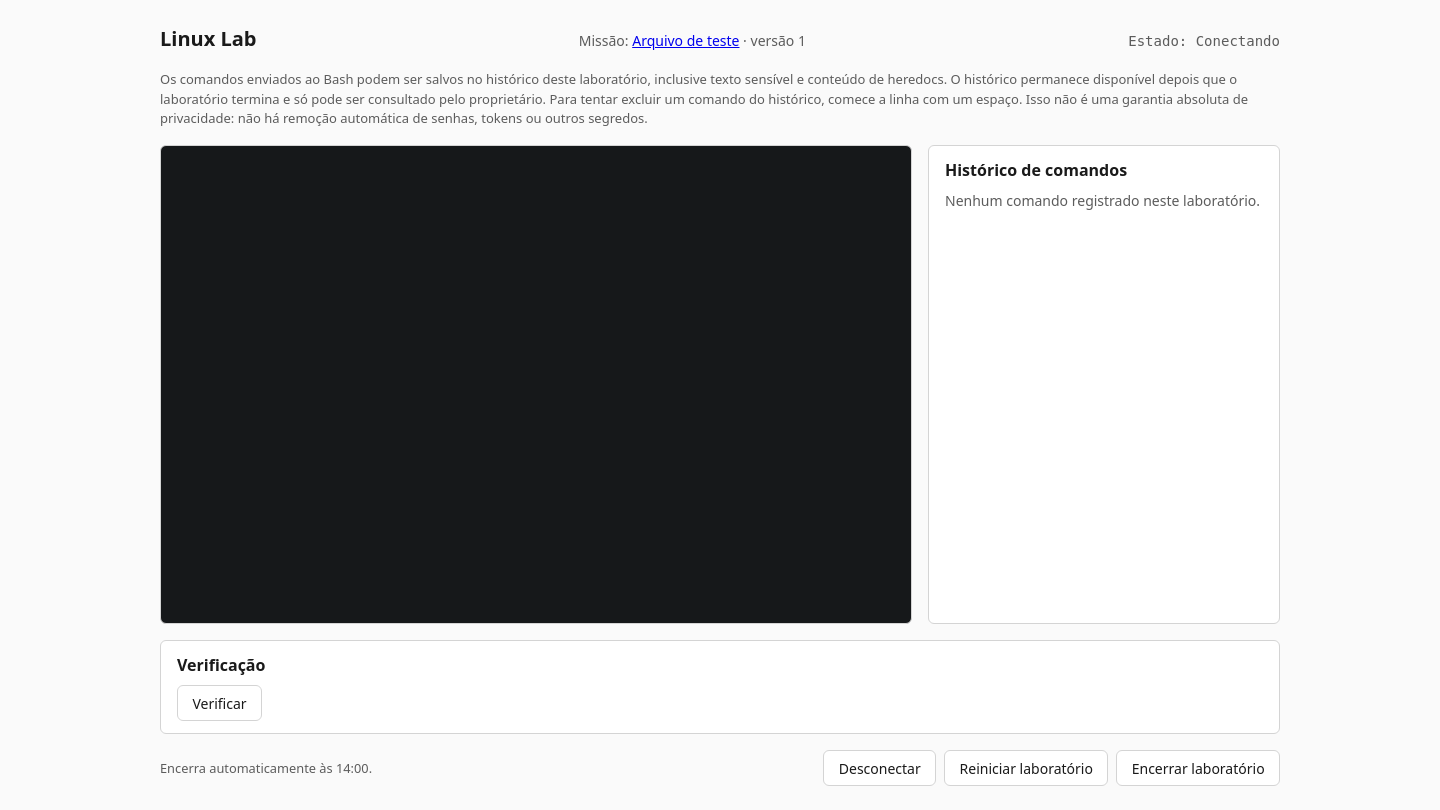
Test case: late responses of operations started by the previous user › does not let Ana's late lab end touch Bia's labs
Click the button "Encerrar laboratório".
click(1198, 768)  # box [1116,750,1280,786]
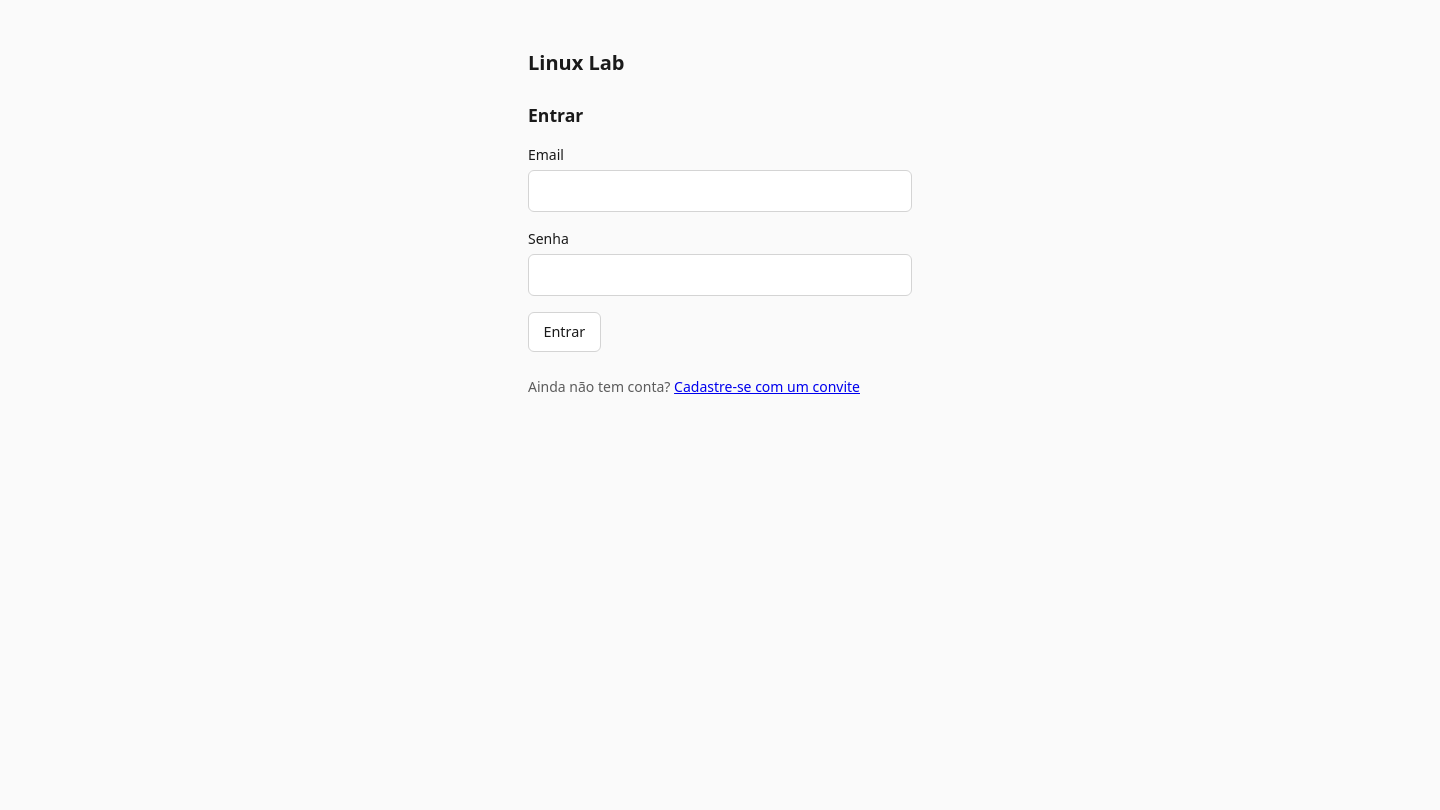
Check: the heading "Entrar" is shown, box [528,103,583,127]
Type "bia@example.com" into the field labelled "Email".
click(720, 191); type("bia@example.com")  # box [528,170,912,212]
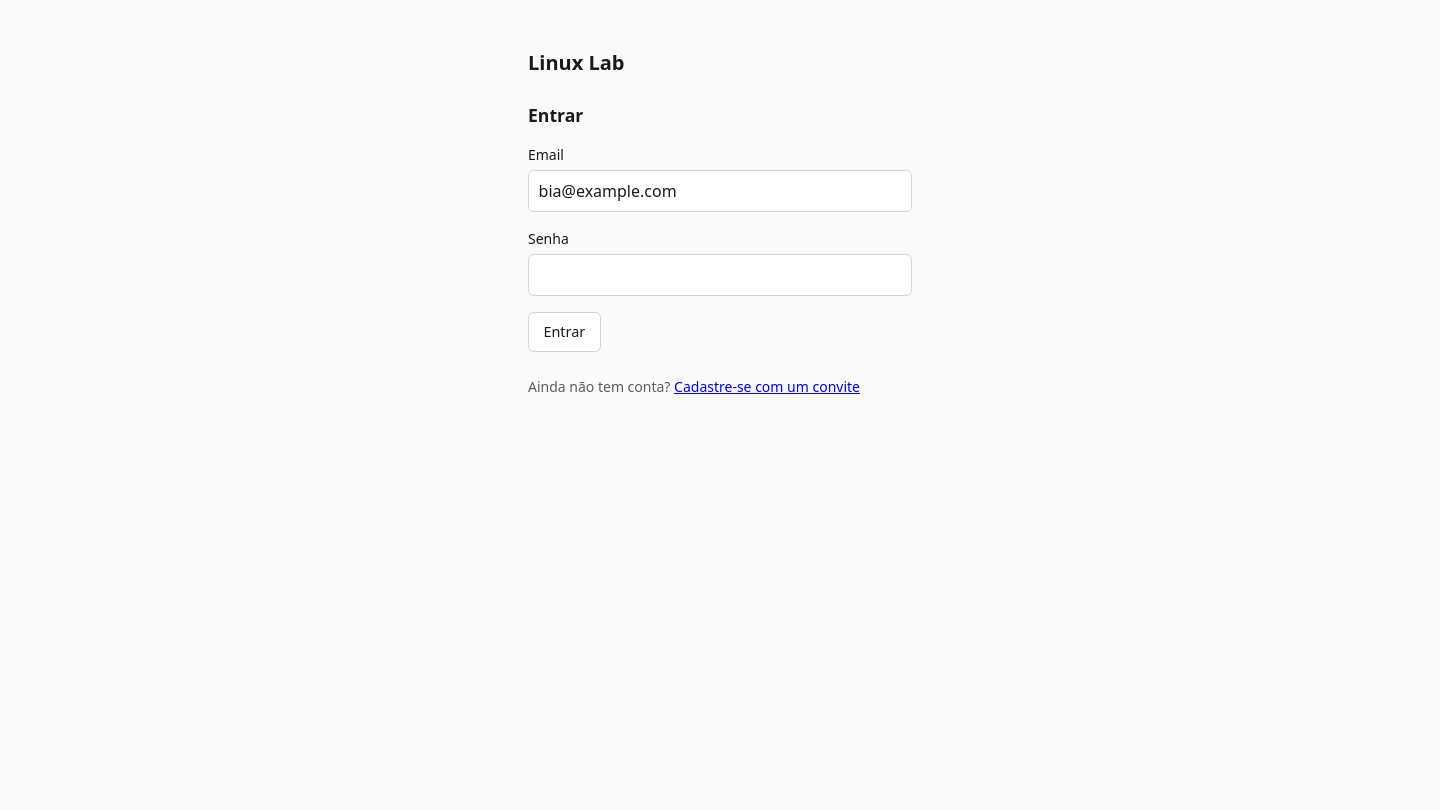
Type "synthetic password 01" into the password field labelled "Senha".
click(720, 275); type("synthetic password 01")  # box [528,254,912,296]
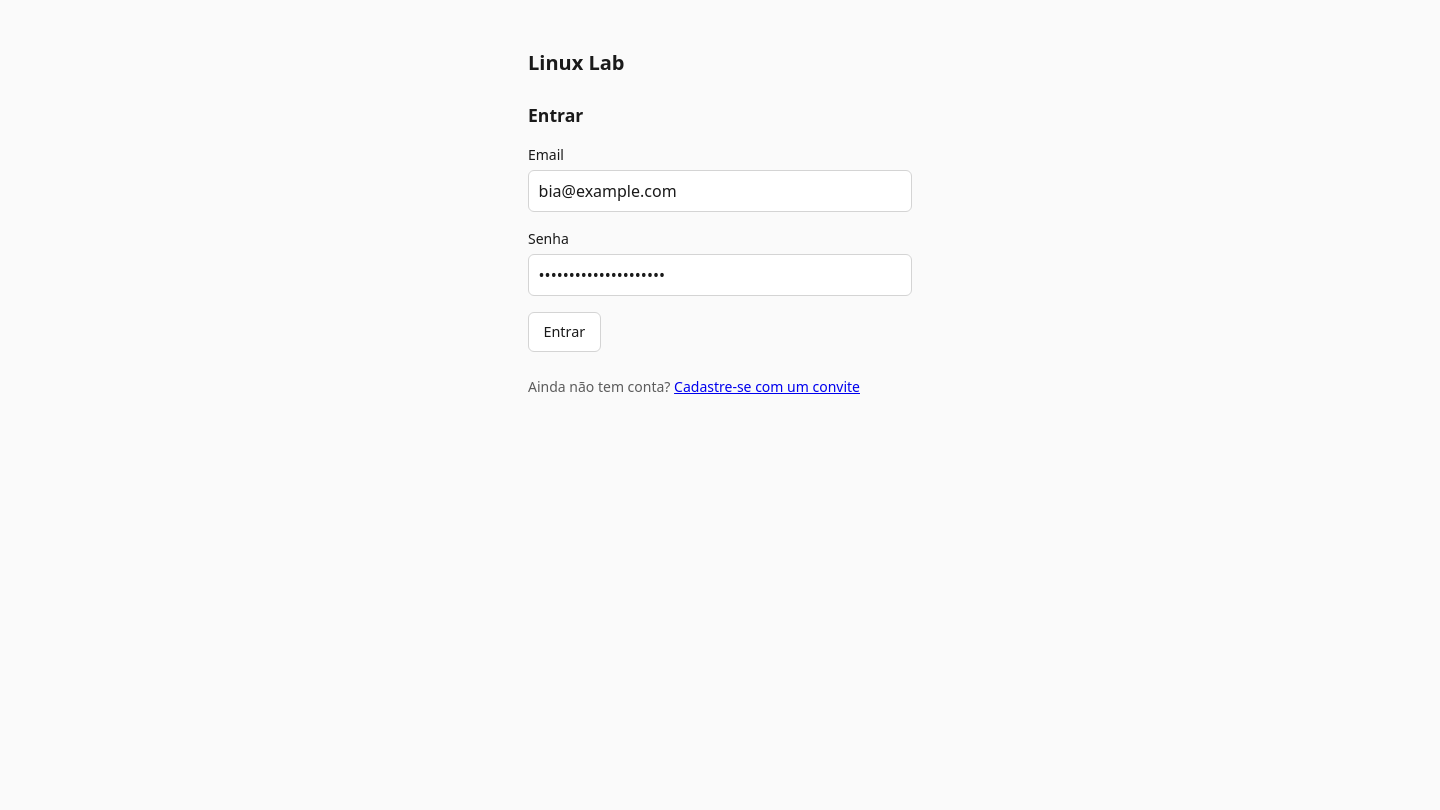
Click the button "Entrar".
click(564, 332)  # box [528,312,600,352]
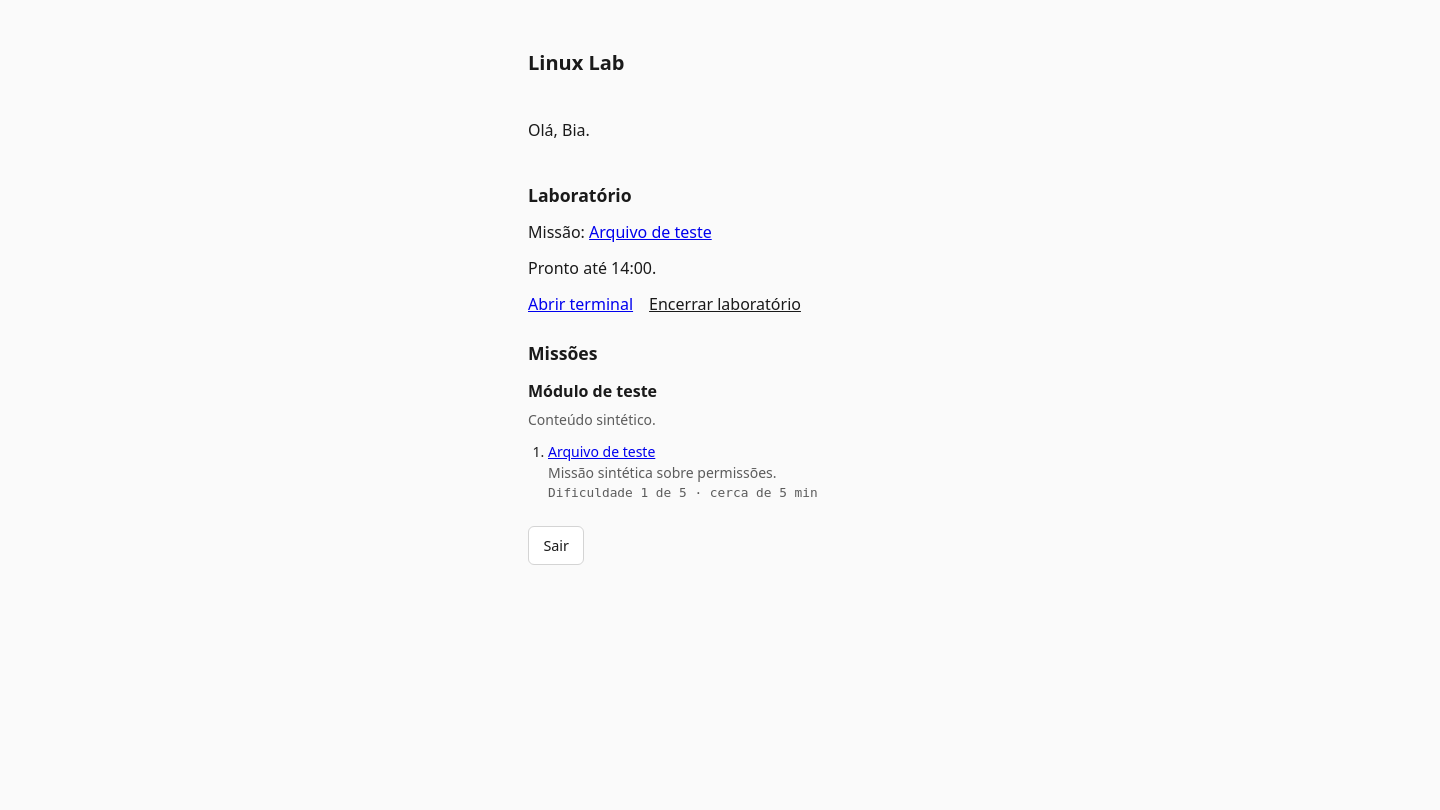
Check: the text "Olá, Bia." is shown, box [528,119,590,141]
Check: the link "Arquivo de teste" below "Conteúdo sintético." is shown, box [548,442,655,461]
